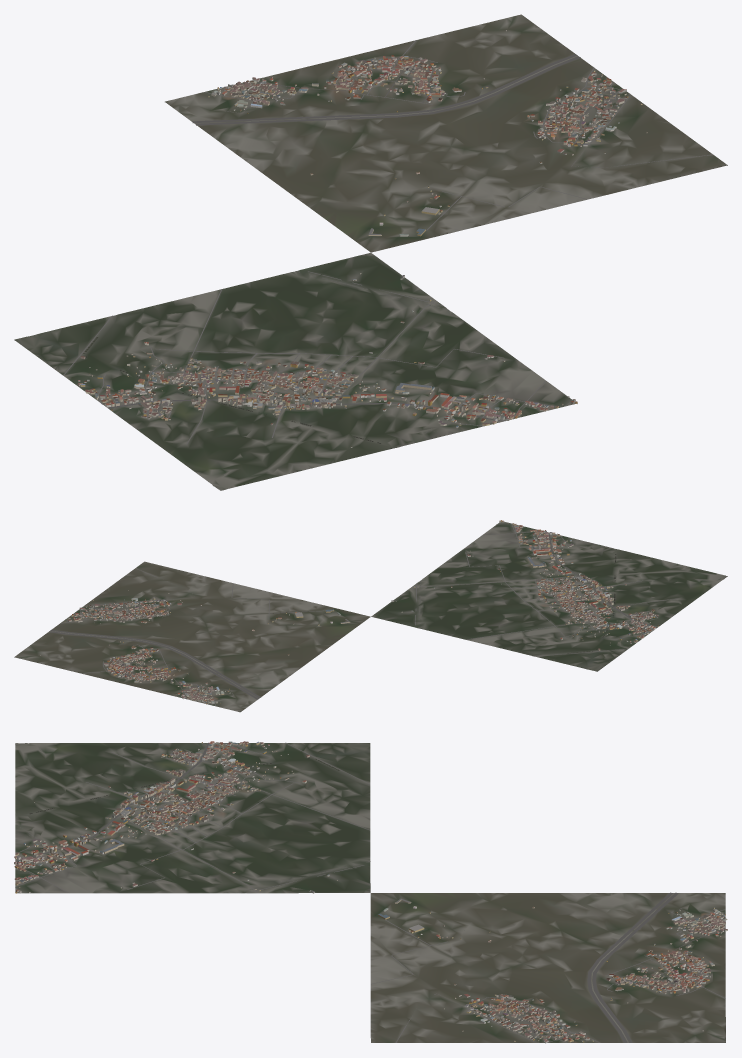
3 views of the same model, one above another, from view 1: azimuth 30°, elevation 25°; view 2: azimuth 150°, elevation 25°; view 3: azimuth 270°, elevation 25° (orthographic). The views are drawn at different scales.
Parts seen in each view (by area): view 1: ground, buildings, roads; view 2: ground, buildings, roads; view 3: ground, buildings, roads.
Part boxes in pixels (x1,y1,x2,y2): ground: (14,14,727,490); buildings: (77,30,647,447); roads: (63,40,713,481); ground: (14,521,727,712); buildings: (40,520,658,704); roads: (48,523,705,706); ground: (15,743,725,1042); buildings: (14,741,727,1043); roads: (15,742,725,1042).
Size of the model in its own units: 2810 by 22.37 by 2819.
